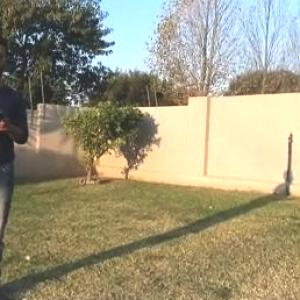follow: (0, 28, 34, 299)
